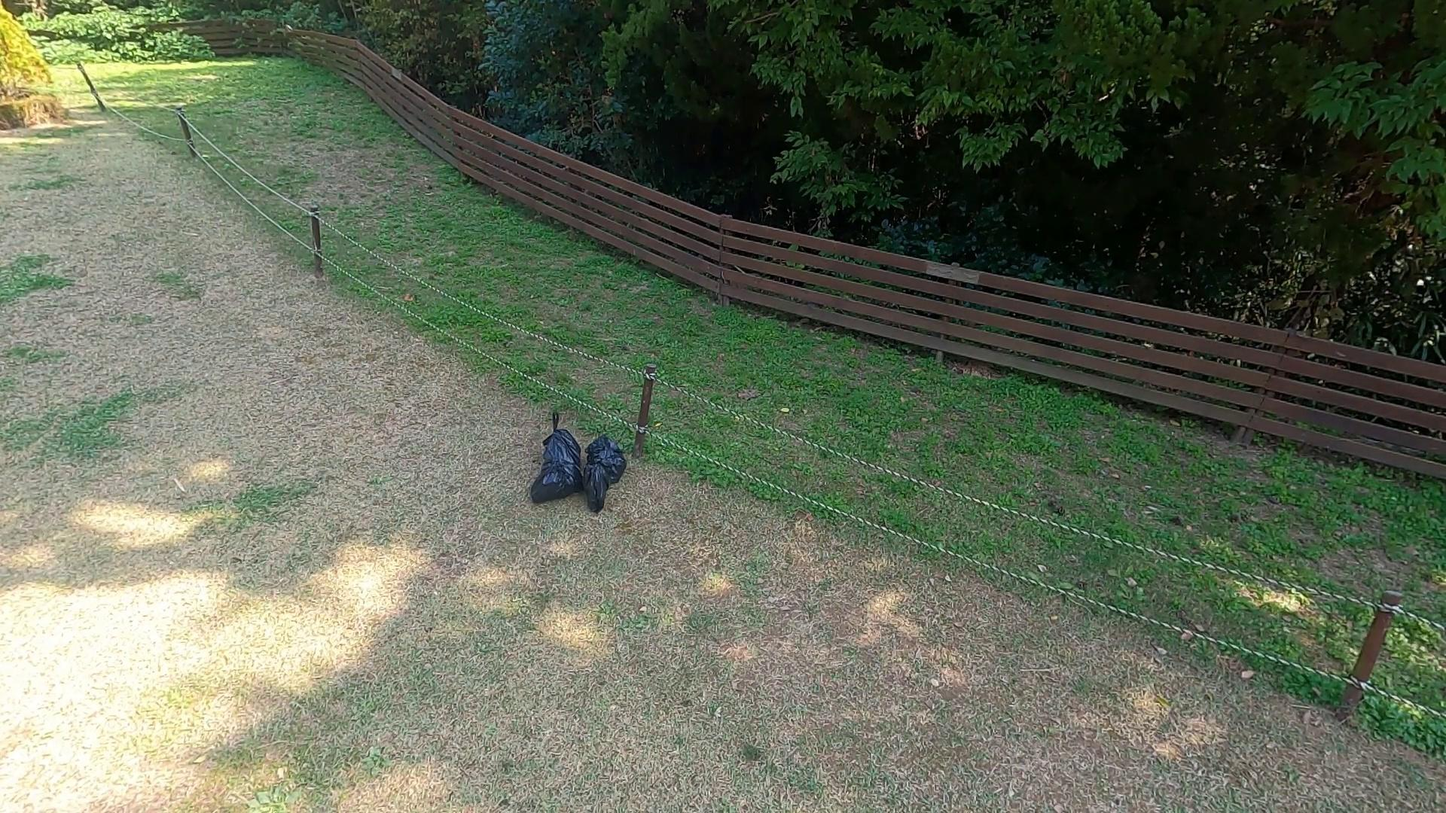trash: (528, 444, 586, 508), (580, 428, 630, 486), (579, 456, 618, 517), (536, 411, 582, 462)
